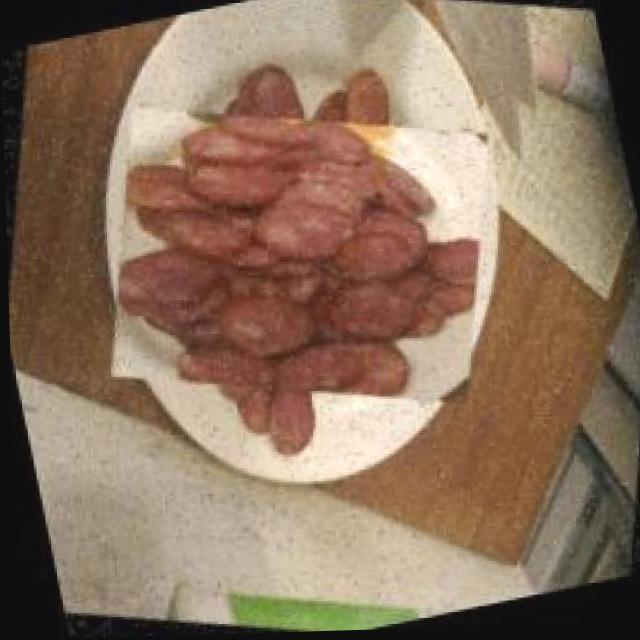chinese_sausage: (69, 26, 529, 486)
